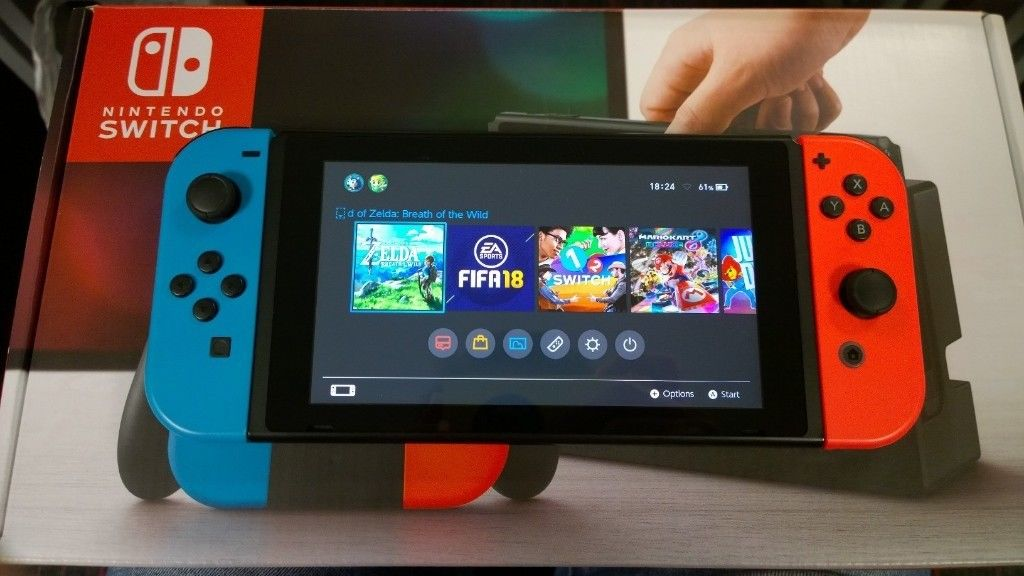NintendoSwitch: (132, 117, 935, 459)
